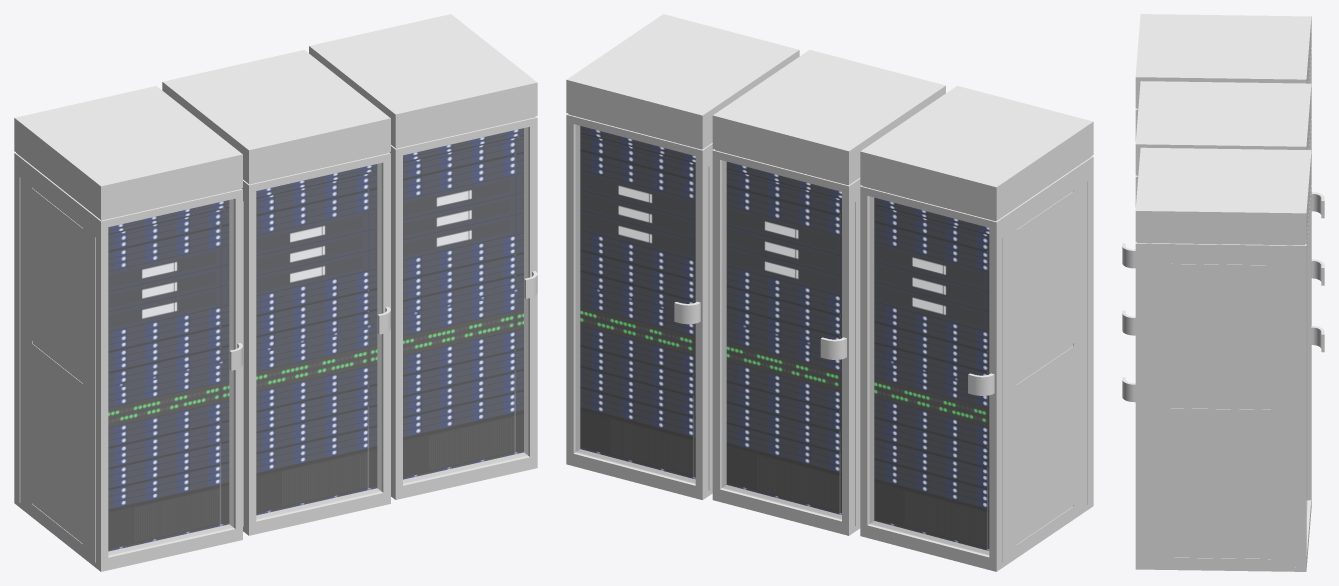
File: data.glb
3 renders of one model, left to right at view 1: azimuth 30°, elevation 25°; view 2: azimuth 150°, elevation 25°; view 3: azimuth 270°, elevation 25°, orthographic. The views are drawn at different scales.
Parts seen in each view (by area): view 1: Object_2.001, Object_2, Object_2.002; view 2: Object_2.001, Object_2, Object_2.002; view 3: Object_2.002, Object_2.001, Object_2.
Boxes of the visible parts, box(x1,y1,x2,y2) form: Object_2.001: box(14, 86, 242, 571); Object_2: box(162, 50, 390, 535); Object_2.002: box(309, 14, 537, 499); Object_2.001: box(860, 86, 1093, 571); Object_2: box(712, 50, 945, 535); Object_2.002: box(566, 14, 799, 499); Object_2.002: box(1122, 147, 1324, 571); Object_2.001: box(1122, 14, 1324, 268); Object_2: box(1122, 81, 1324, 335).
Size of the model in its own units: 2.04 by 1.71 by 0.8747.
Materials: 3 (1 with a texture image).
